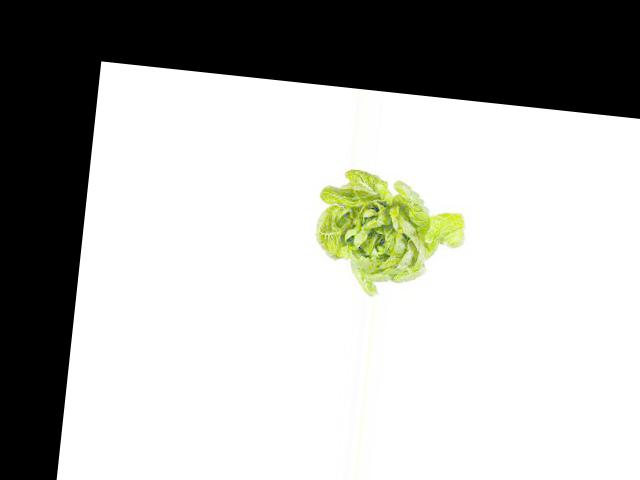lettuce: (303, 171, 476, 303)
